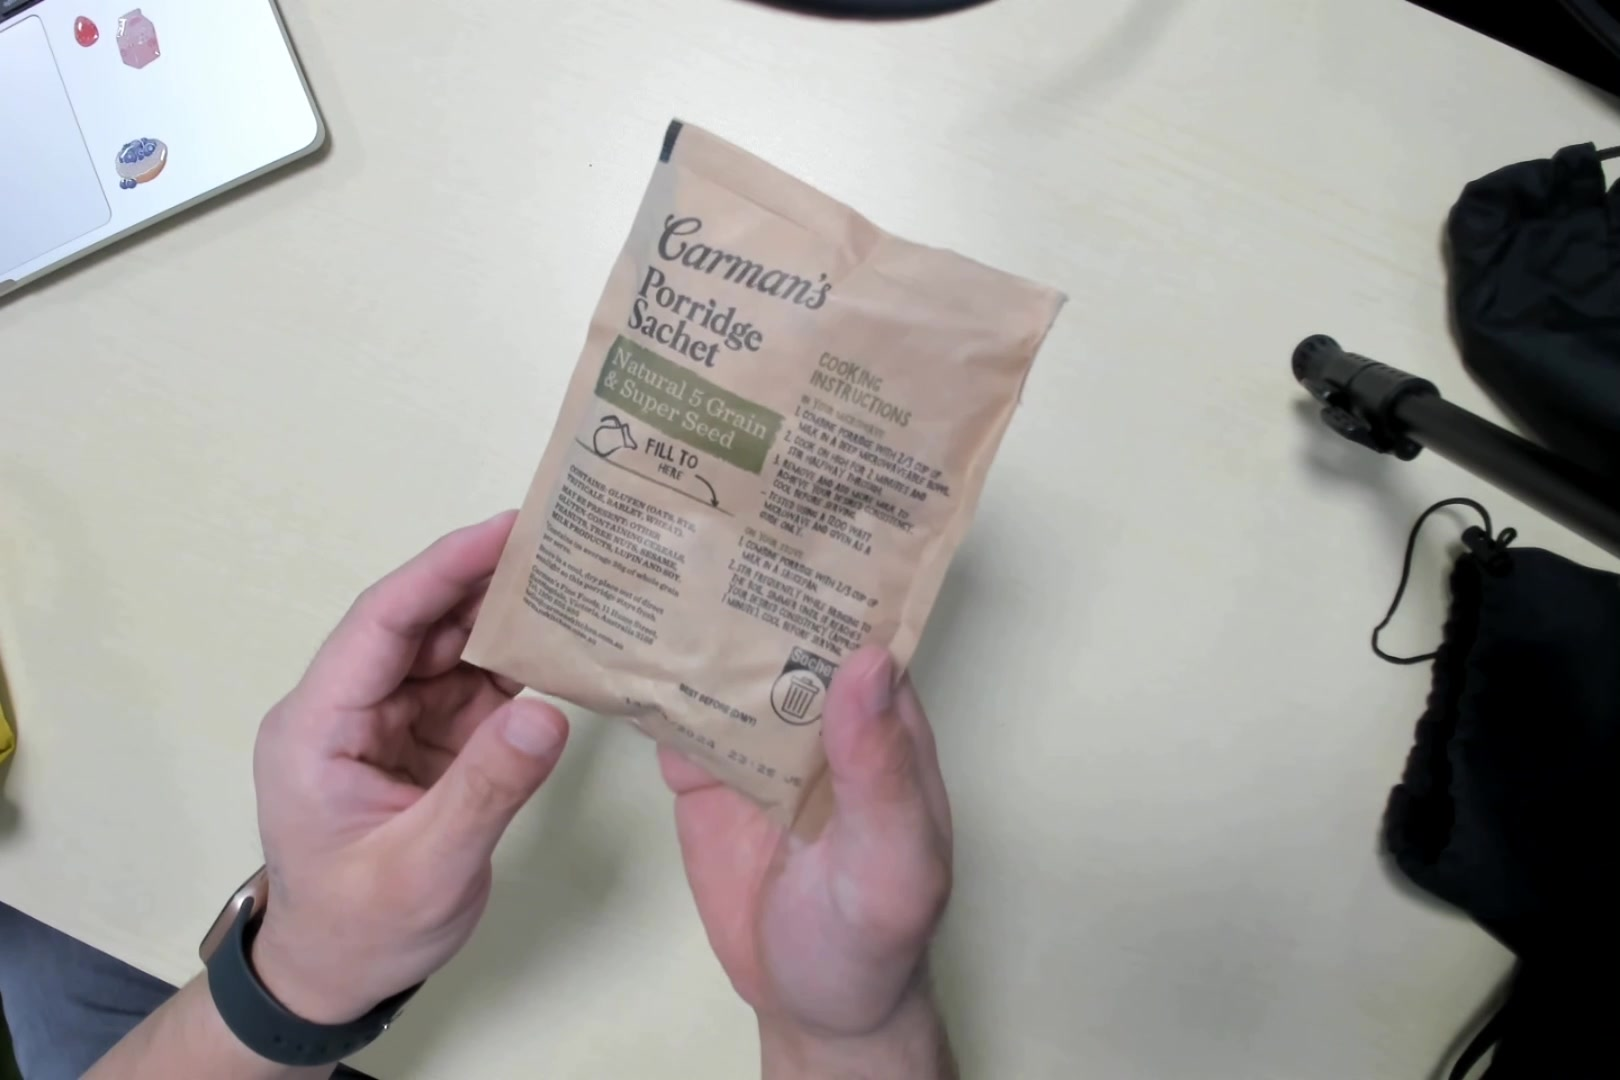InstantMeals_0-99g_NonHalal_NonHealthy: (456, 99, 1072, 847)
